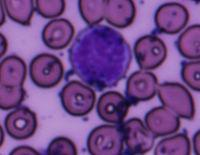B: (69, 24, 132, 87)
